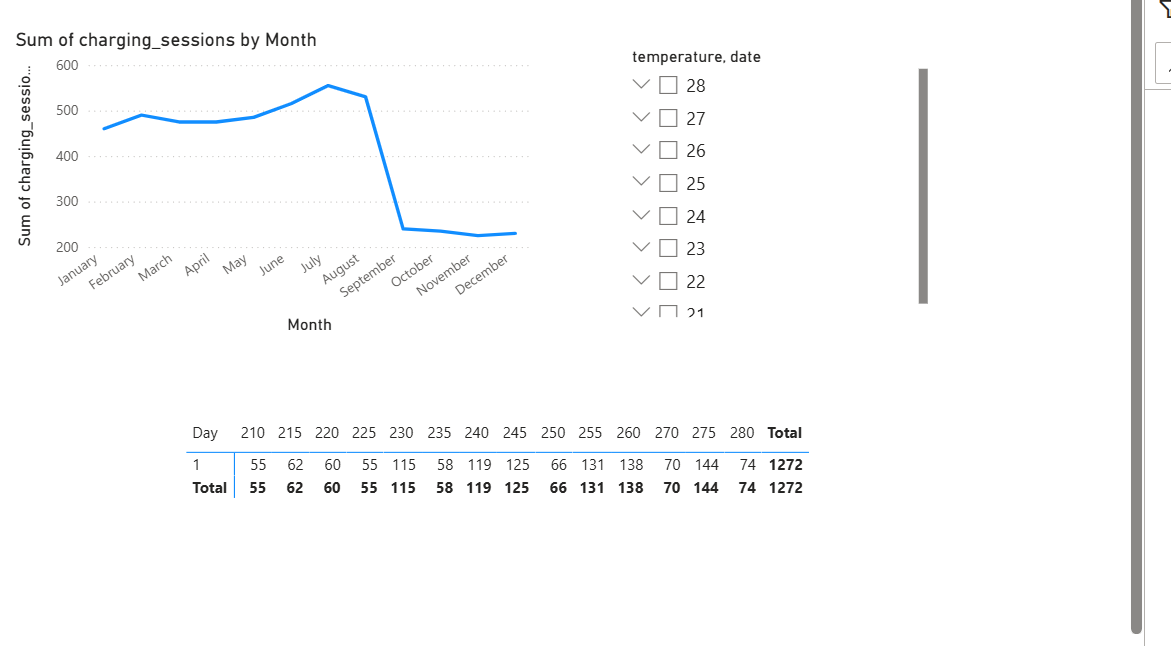

This screenshot's page, from the dashboard's own definition file:
{"tool":"powerbi","page":{"name":"Page 1","canvas":[1280,720],"ordinal":0},"visuals":[{"type":"slicer","fields":{"Values":["ev_charging_data.temperature","ev_charging_data.date"]},"box":[556.7,38.9,281.1,250],"z":0},{"type":"lineChart","fields":{"Category":["ev_charging_data.date.Variation.Date Hierarchy.Month"],"Y":["Sum(ev_charging_data.charging_sessions)"]},"box":[16.7,26.7,467.8,276.7],"z":1},{"type":"pivotTable","fields":{"Rows":["ev_charging_data.date.Variation.Date Hierarchy.Day"],"Values":["Sum(ev_charging_data.traffic_volume)"],"Columns":["ev_charging_data.charging_sessions"]},"box":[168.9,370,593.3,118.9],"z":2}]}

Visuals, with their boxes in screenshot pixels (x1, y1, x2, y2), scaled from the page's 1280x720 canvas onto the 1171x646 screenshot:
slicer - ev_charging_data.temperature x ev_charging_data.date: crop(509, 35, 766, 259)
lineChart - ev_charging_data.date.Variation.Date Hierarchy.Month x Sum(ev_charging_data.charging_sessions): crop(15, 24, 443, 272)
pivotTable - ev_charging_data.date.Variation.Date Hierarchy.Day x Sum(ev_charging_data.traffic_volume): crop(155, 332, 697, 439)
